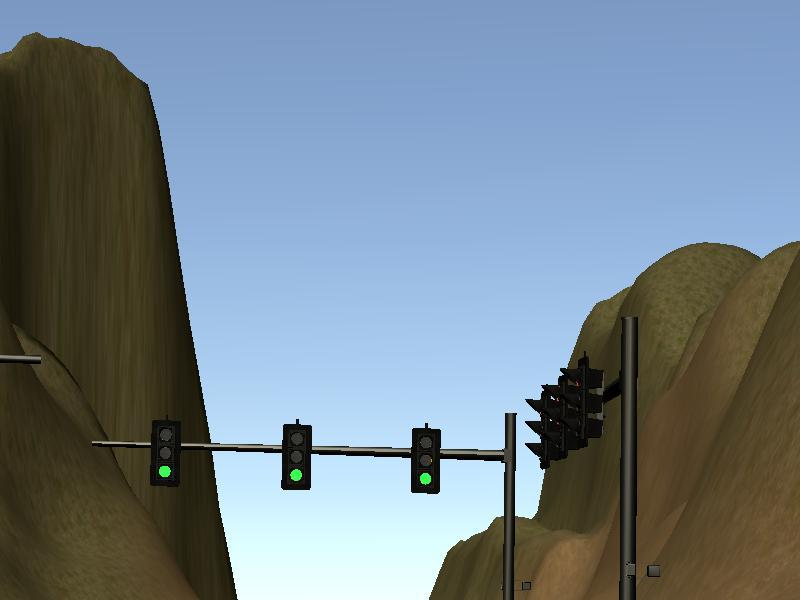Green: (284, 424, 312, 490), (412, 430, 440, 492), (153, 421, 178, 485)
